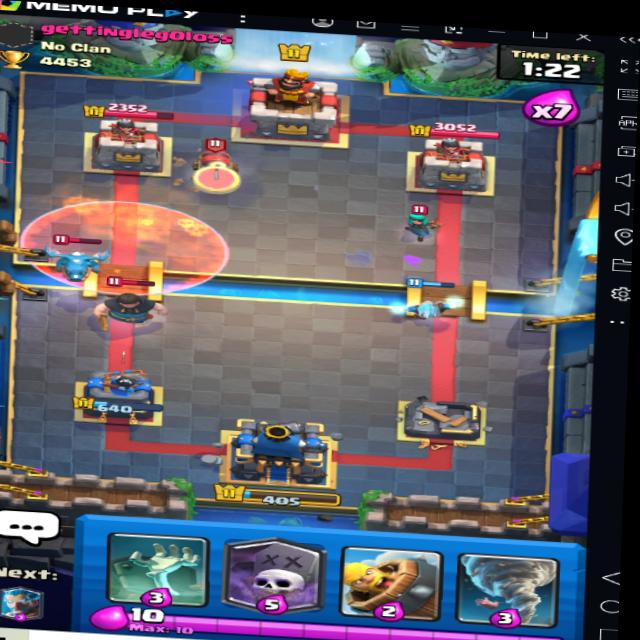cannon-cart: (187, 133, 246, 187)
electro-dragon: (39, 227, 109, 284)
rascal-boy: (92, 283, 168, 324)
rascal-girl: (393, 203, 436, 239)
